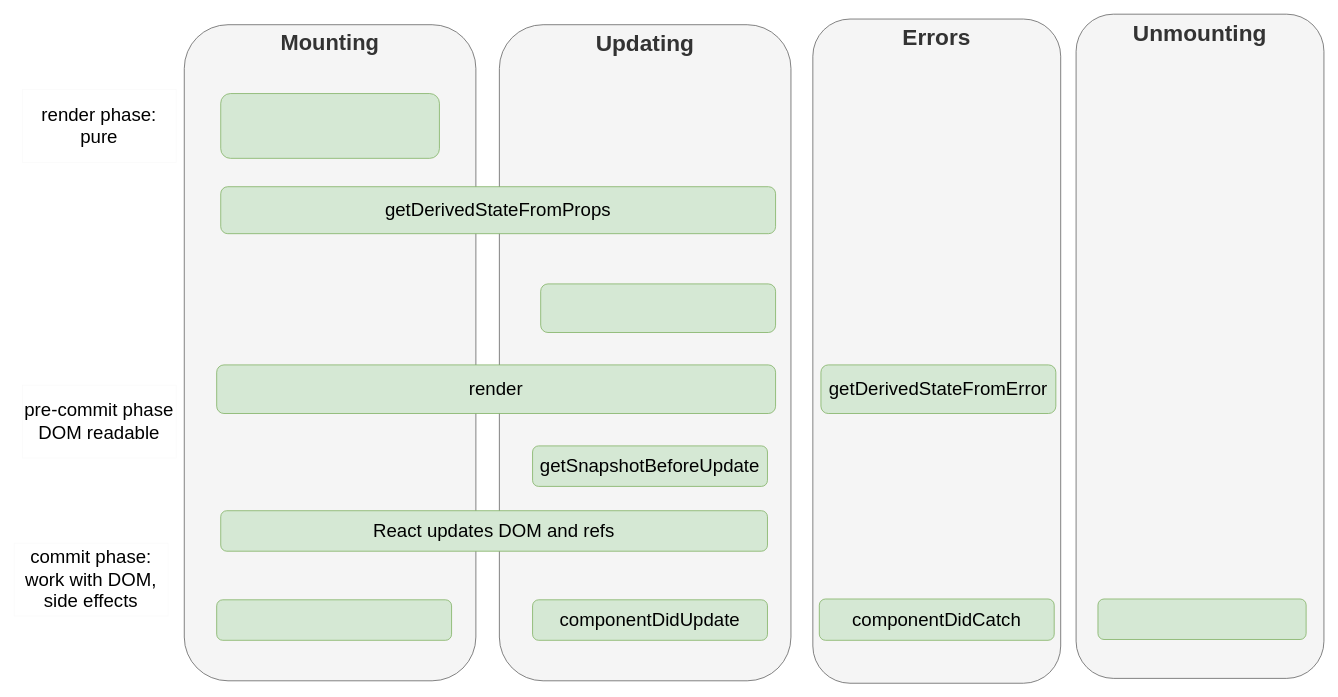
Some shapes in this 1338 by 697 pixel diagram are drawn without their labels. Each missing label, with the centre of its shape:
compnentWillUnmount: (x=1201, y=618)
componentDidMount: (x=334, y=619)
constructor: (x=329, y=125)
shouldComponentUpdate: (x=658, y=308)
